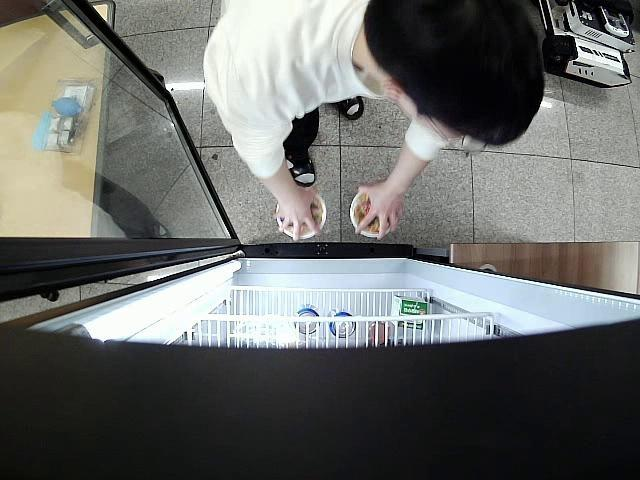09_yukGaeJang: (275, 198, 328, 241), (348, 192, 393, 238)
